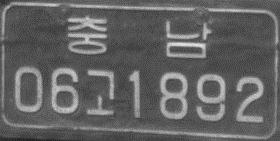0: (13, 65, 44, 113)
1: (121, 70, 151, 119)
2: (235, 75, 264, 124)
6: (50, 66, 79, 115)
8: (159, 71, 188, 120)
9: (195, 73, 227, 122)
고: (85, 68, 116, 116)
충남_D: (66, 14, 211, 59)
